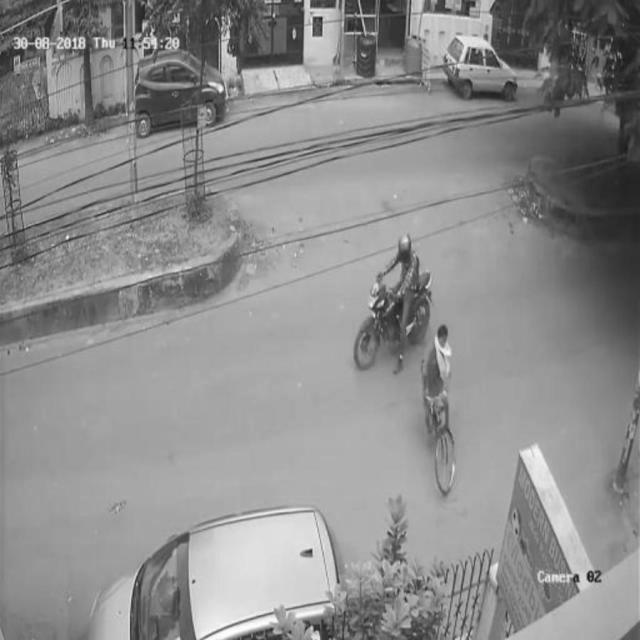vehicle: (78, 510, 346, 636), (351, 230, 432, 362), (129, 43, 227, 135), (417, 320, 464, 497), (444, 33, 517, 106)
